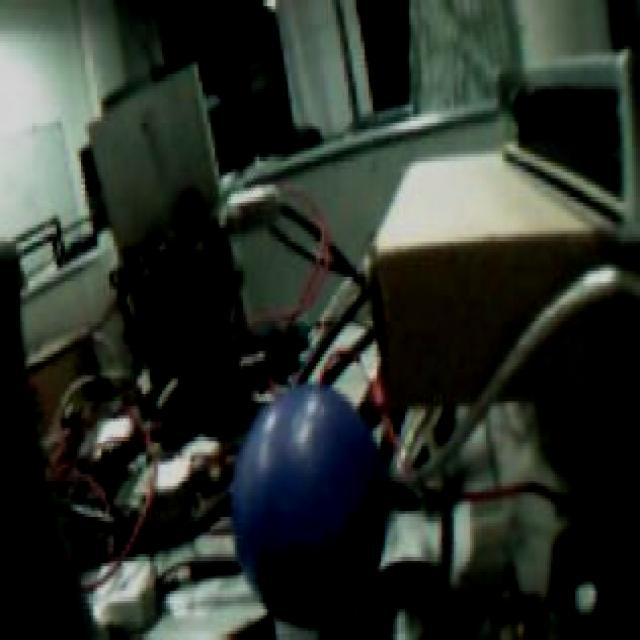BallPurple: (229, 389, 381, 611)
